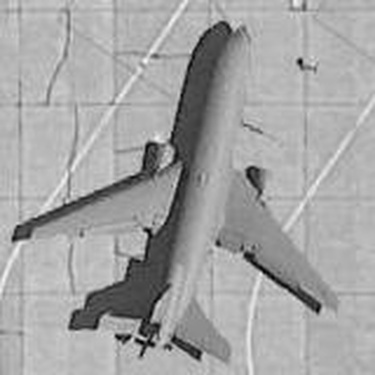airplane: (15, 16, 358, 370)
